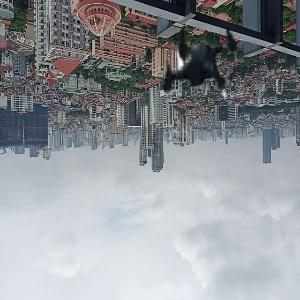drone: (132, 7, 274, 149)
